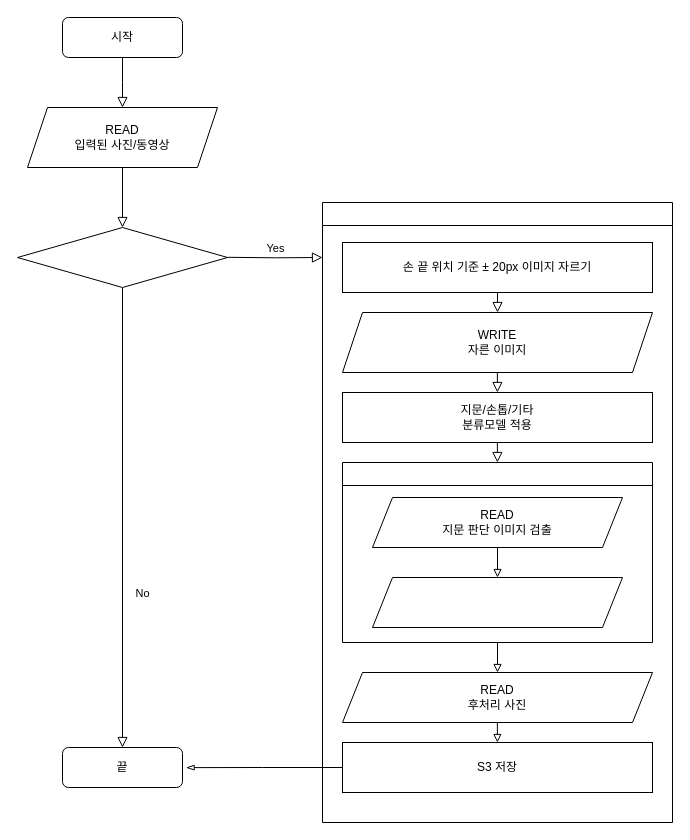
The diagram is 690 pixels wide and 840 high, and some of its shapes have lost their labels. The shapes that lost their labels are listed below. From the top down, each one's box as (x1, y1, x2, y2) in pixels, then its label:
(16, 226, 228, 288): 손 끝 위치가 검출되는가?
(322, 202, 672, 822): 손 끝 이미지 검출 시
(342, 462, 652, 642): 지문 판단 시
(372, 576, 622, 628): WRITE 지문 판단 이미지 블러 처리
